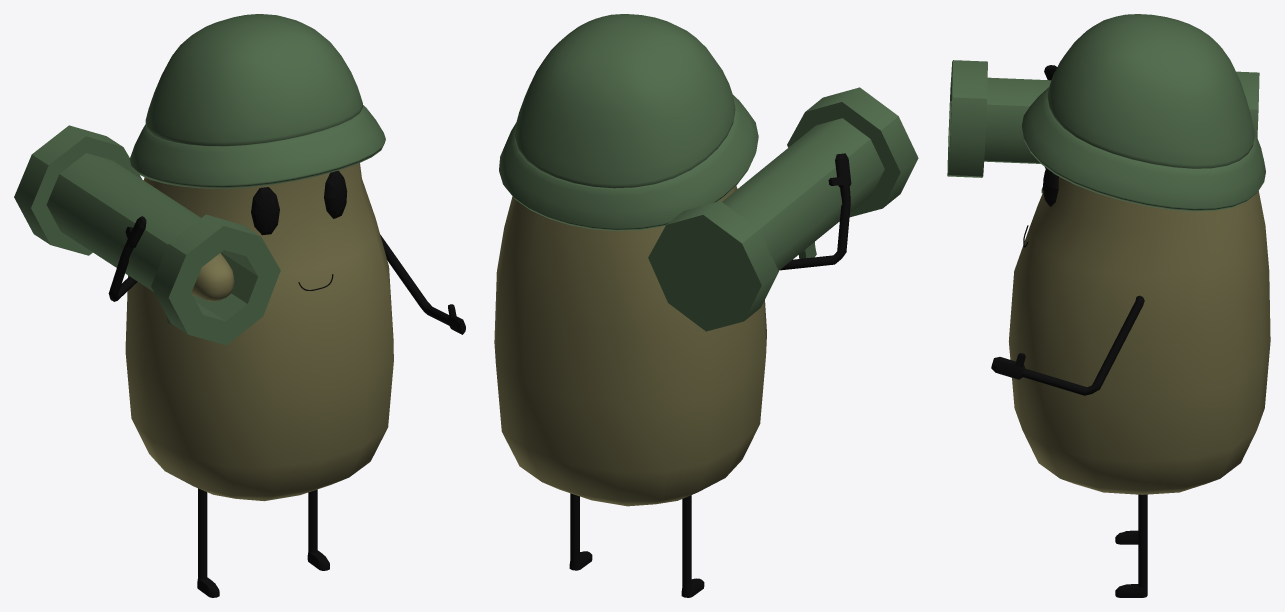
File: PotatoStanding.fbx
The picture shows the model from 3 angles, left to right: view 1: azimuth 30°, elevation 25°; view 2: azimuth 150°, elevation 25°; view 3: azimuth 270°, elevation 25°; orthographic projection. The views are drawn at different scales.
Visible parts, largest first — view 1: polySurface1, polySurface2, pCube3, RightEye, polySurface3, sweep7, RLeg, sweep6, LLeg; view 2: polySurface1, polySurface2, pCube3, sweep6, RLeg, LLeg; view 3: polySurface1, polySurface2, pCube3, sweep7, LLeg, RightEye.
Part boxes in pixels (x1,y1,x2,y2): polySurface1: (125,163,393,501); polySurface2: (129,14,385,188); pCube3: (14,125,280,345); RightEye: (251,170,347,235); polySurface3: (191,253,234,301); sweep7: (380,234,465,334); RLeg: (197,488,219,597); sweep6: (108,216,146,301); LLeg: (307,489,329,570); polySurface1: (494,186,766,506); polySurface2: (499,14,758,230); pCube3: (648,87,918,331); sweep6: (780,153,851,270); RLeg: (681,495,704,597); LLeg: (569,493,592,570); polySurface1: (1008,176,1270,494); polySurface2: (1022,14,1265,211); pCube3: (947,60,1259,177); sweep7: (991,295,1144,395); LLeg: (1115,494,1147,597); RightEye: (1043,167,1058,206).
Bounding box in the file's own units: 121 × 190 × 102.
